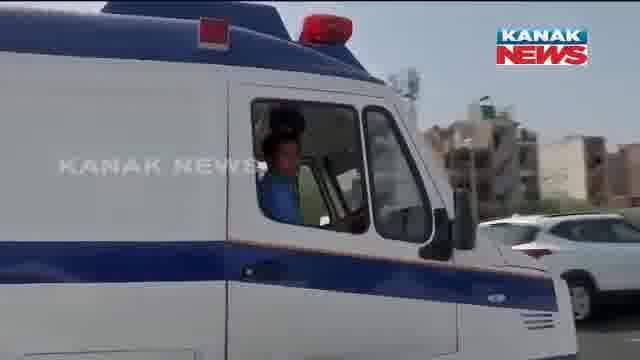AMBULANCE: (1, 3, 640, 359)
